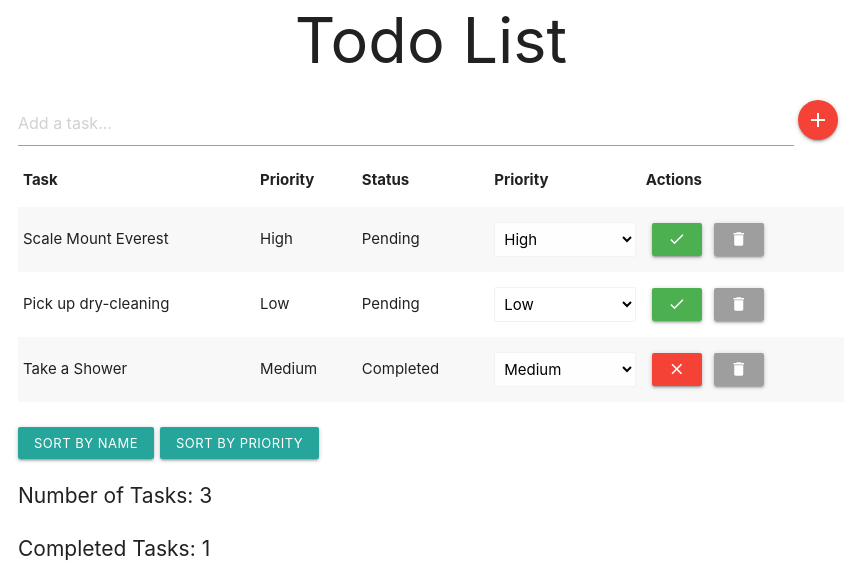
Test case: App › should update the priority of an item when the priority option is changed
Select "Low" in the dropdown in the row of "Scale Mount Everest" at point(565, 240), box top-left (494, 222), bottom-right (636, 257)
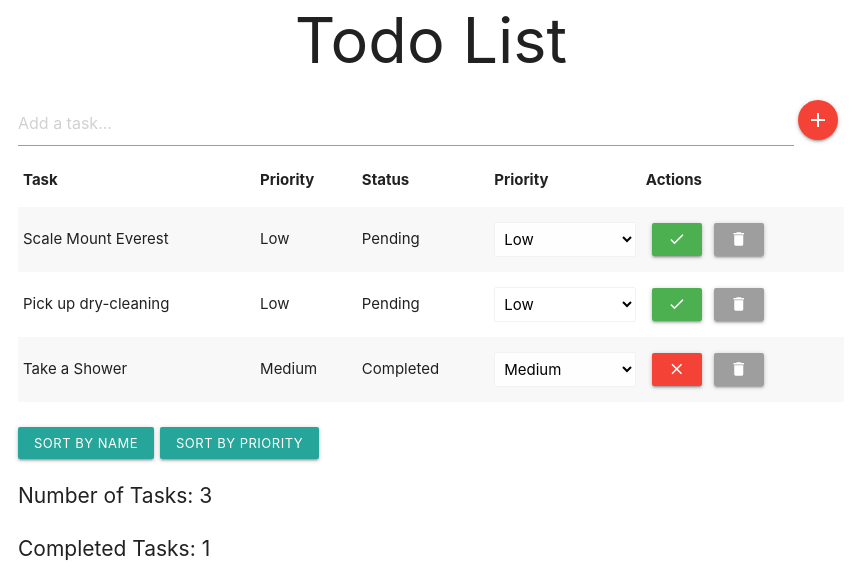
Expected: the cell "Low" next to "Scale Mount Everest" is shown, top-left (260, 229), bottom-right (290, 248)
